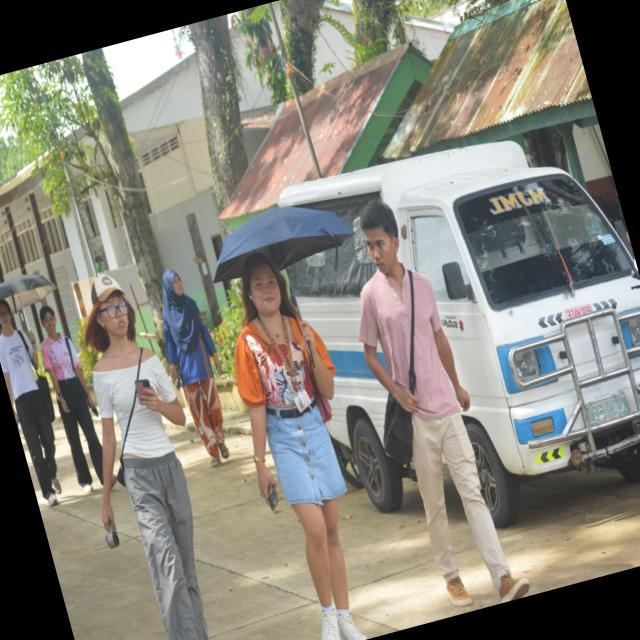person: (358, 201, 528, 606), (234, 253, 364, 639), (84, 275, 208, 639), (162, 270, 228, 467), (0, 301, 60, 506), (39, 306, 102, 492)
